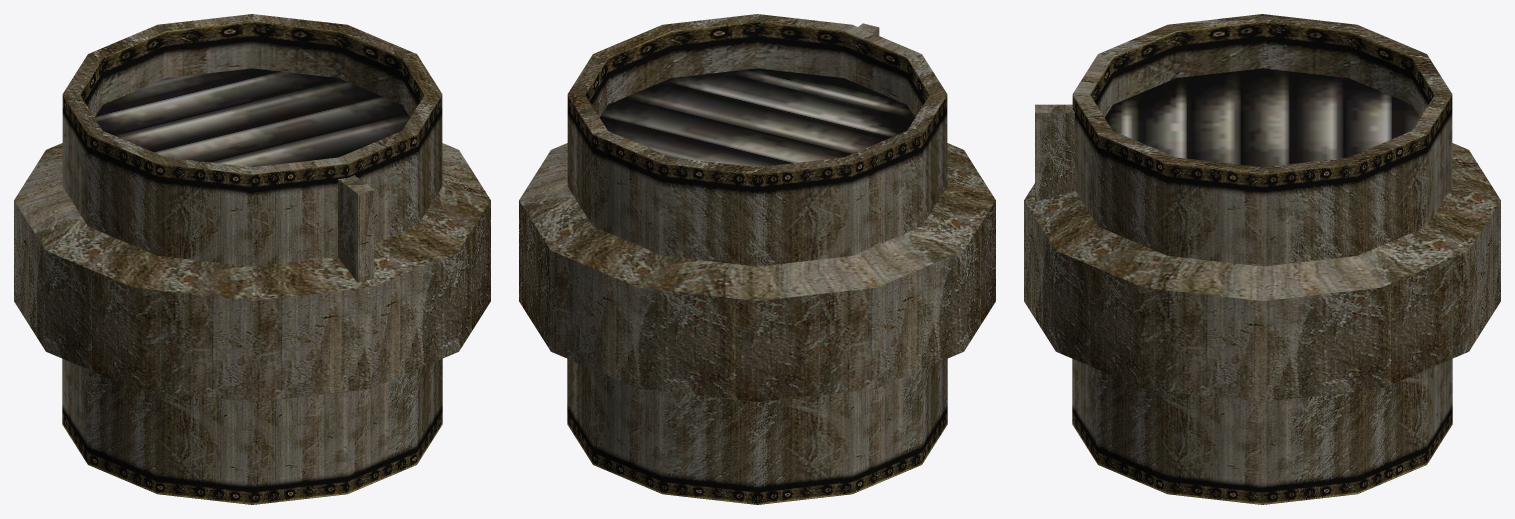
The model's file is round_vent_large.fbx.
The picture shows the model from 3 angles, left to right: view 1: azimuth 30°, elevation 25°; view 2: azimuth 150°, elevation 25°; view 3: azimuth 270°, elevation 25°; orthographic projection.
Visible parts, largest first — view 1: mesh_0, mesh_1; view 2: mesh_0, mesh_1; view 3: mesh_0, mesh_1.
Boxes of the visible parts, x1,y1,x2,y2 form: mesh_0: (14, 14, 490, 504); mesh_1: (95, 68, 409, 167); mesh_0: (519, 14, 995, 504); mesh_1: (600, 68, 914, 167); mesh_0: (1024, 14, 1500, 504); mesh_1: (1105, 68, 1419, 167).
Bounding box in the file's own units: 396 × 302 × 396.
2 materials, 2 textured.
